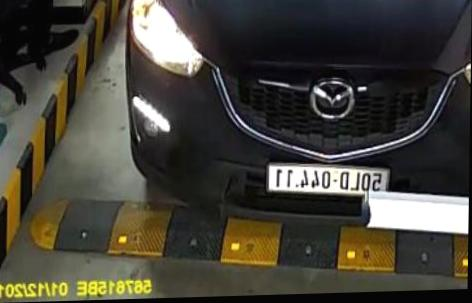License_Plate: (260, 160, 391, 199)
